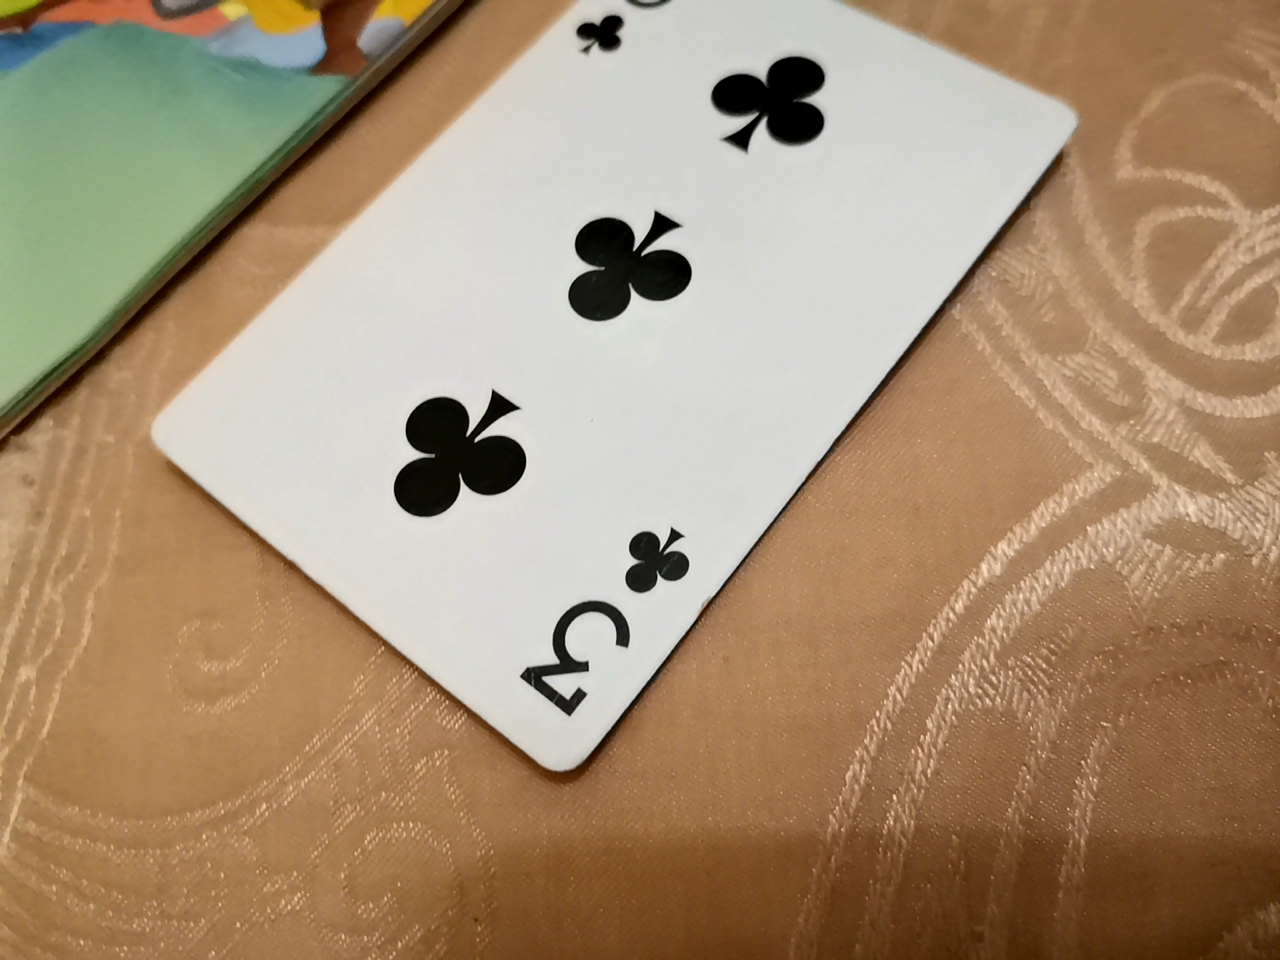mh 3: (133, 5, 1071, 826)
